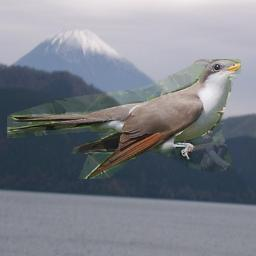Cuckoo: (7, 59, 241, 179)
